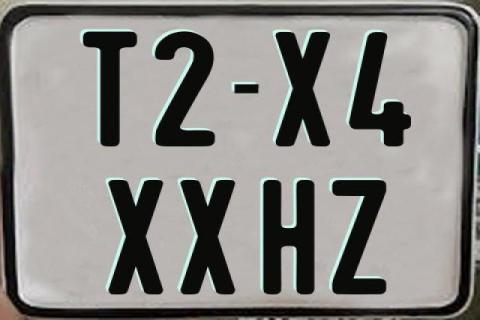0: (153, 31, 216, 151), (346, 30, 410, 148)
H: (260, 178, 316, 294)
T: (81, 32, 141, 150)
X: (276, 31, 336, 148), (108, 180, 167, 298), (179, 178, 234, 294)
Z: (329, 179, 388, 293)
